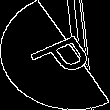P_NE: (16, 26, 94, 84)
